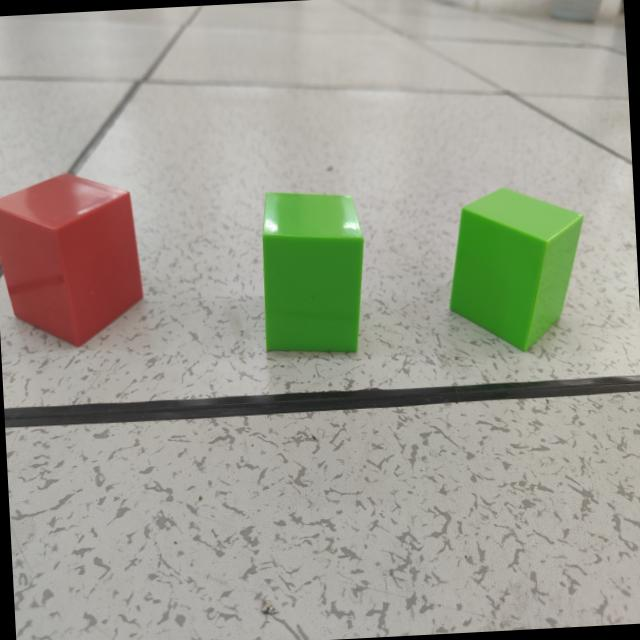green: (450, 189, 584, 353), (261, 193, 365, 357)
red: (0, 175, 145, 349)
